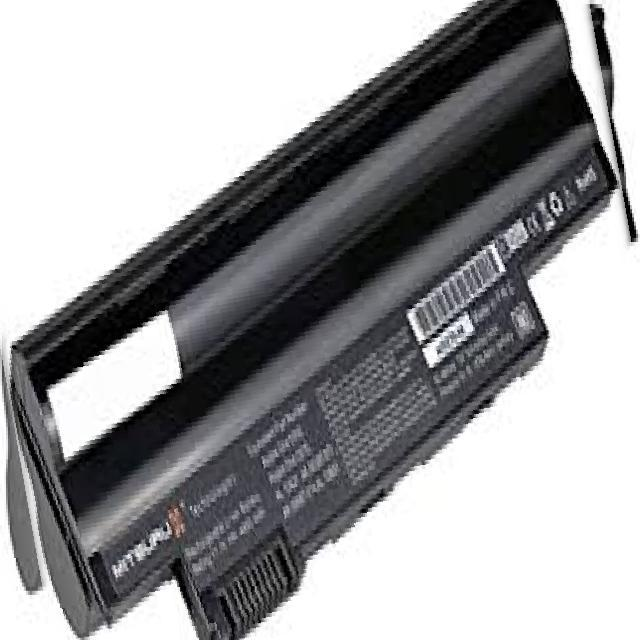Battery: (3, 0, 631, 640)
